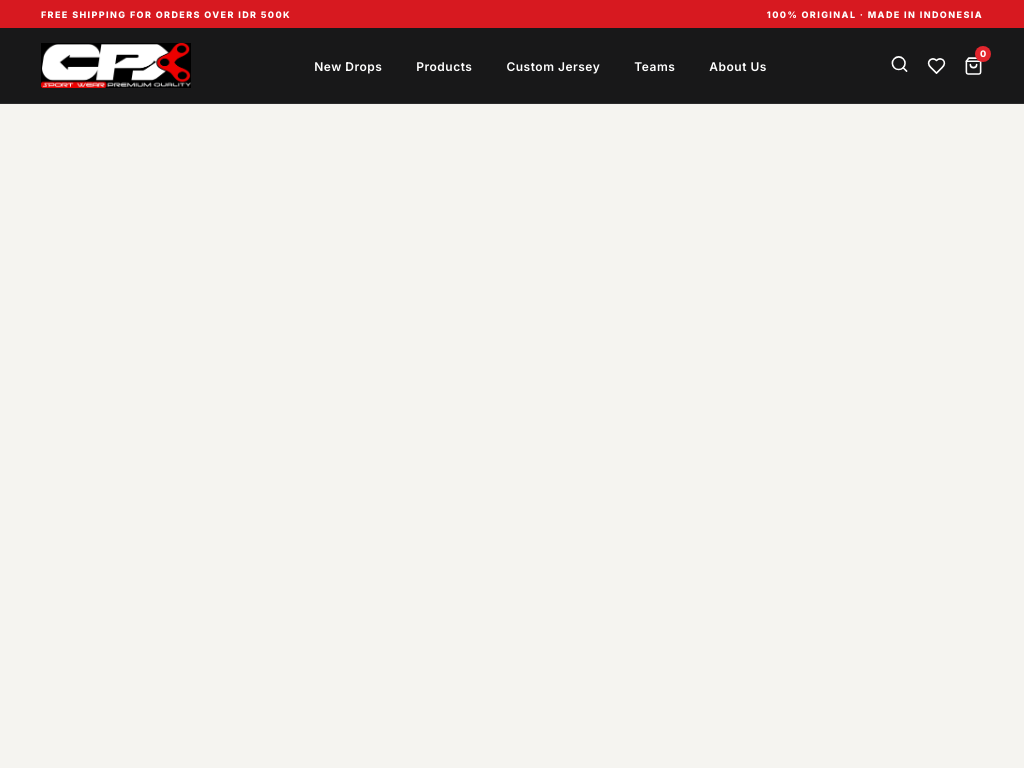
Test: Header › opens wishlist drawer and does not show visitor account access
This screenshot has width=1024, height=768.
Click the button named "Open wishlist": [936, 66] box [927, 54, 946, 78]
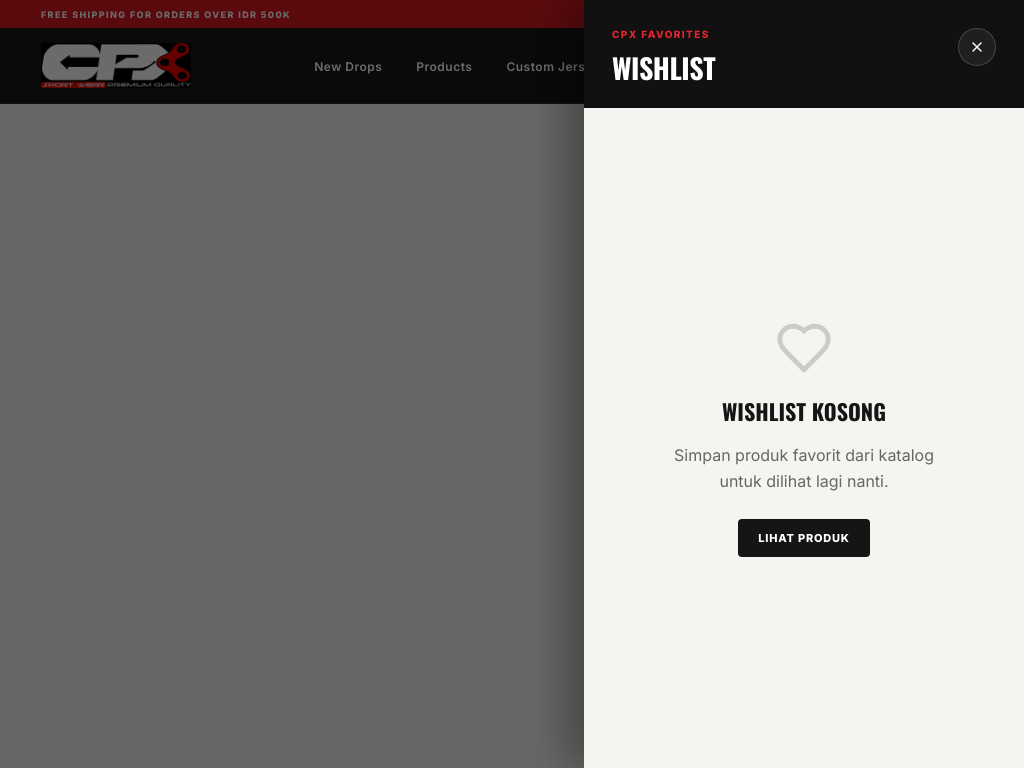
Now the dialog "WISHLIST" is shown, box [584, 0, 1023, 767]
Now the heading "WISHLIST" is shown, box [612, 47, 715, 88]
